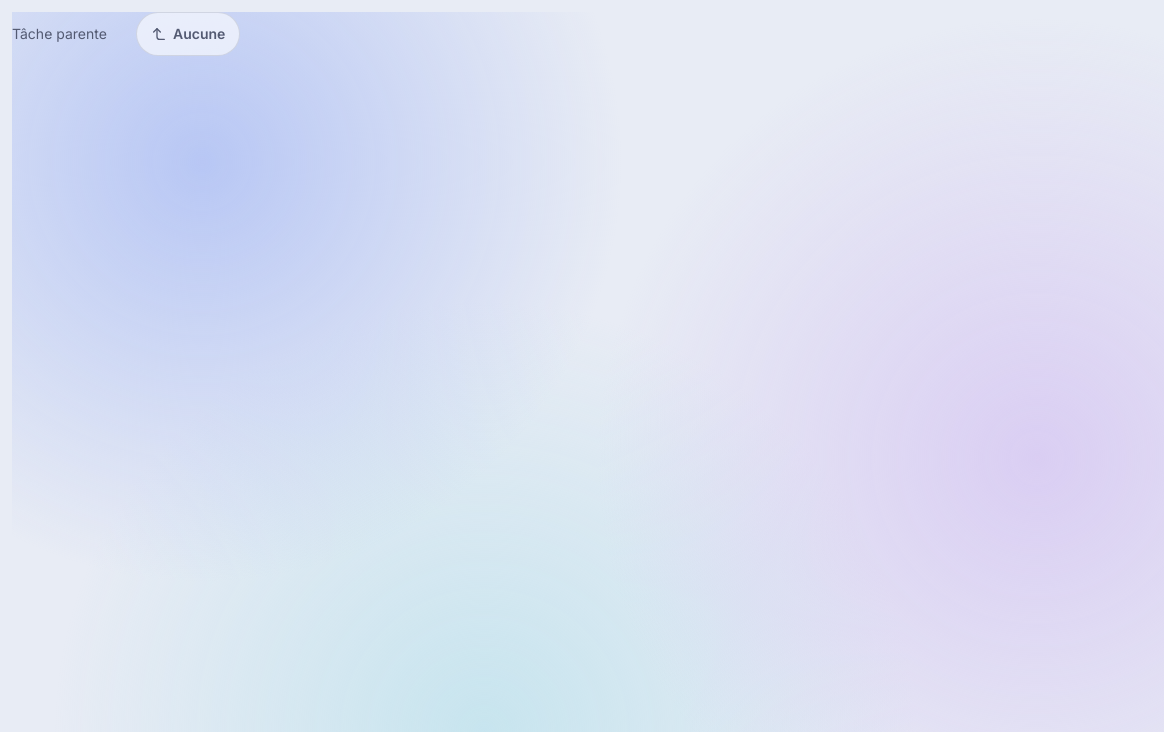
it: propriété « Tâche parente » › refus has_subtasks traduit sous le champ
Click the button with aria-label "Tâche parente : Aucune": click(188, 34) [136,12,240,56]
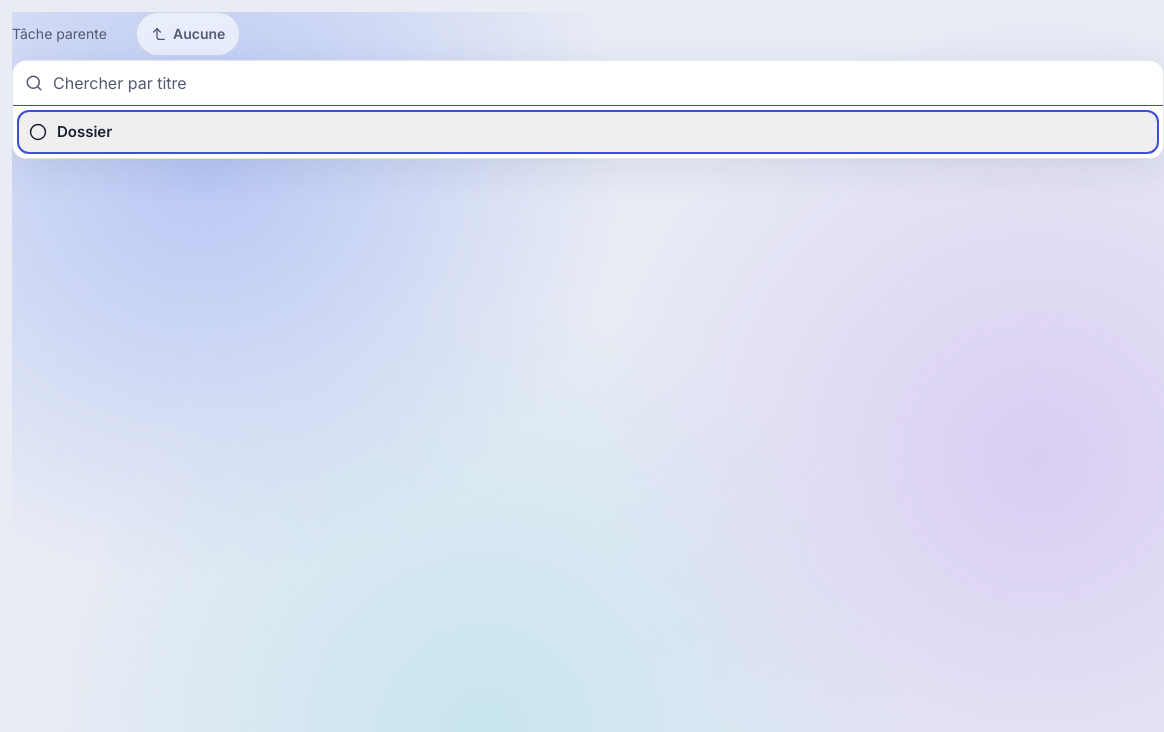
Click the option "Dossier": click(85, 131) [17,110,1159,154]
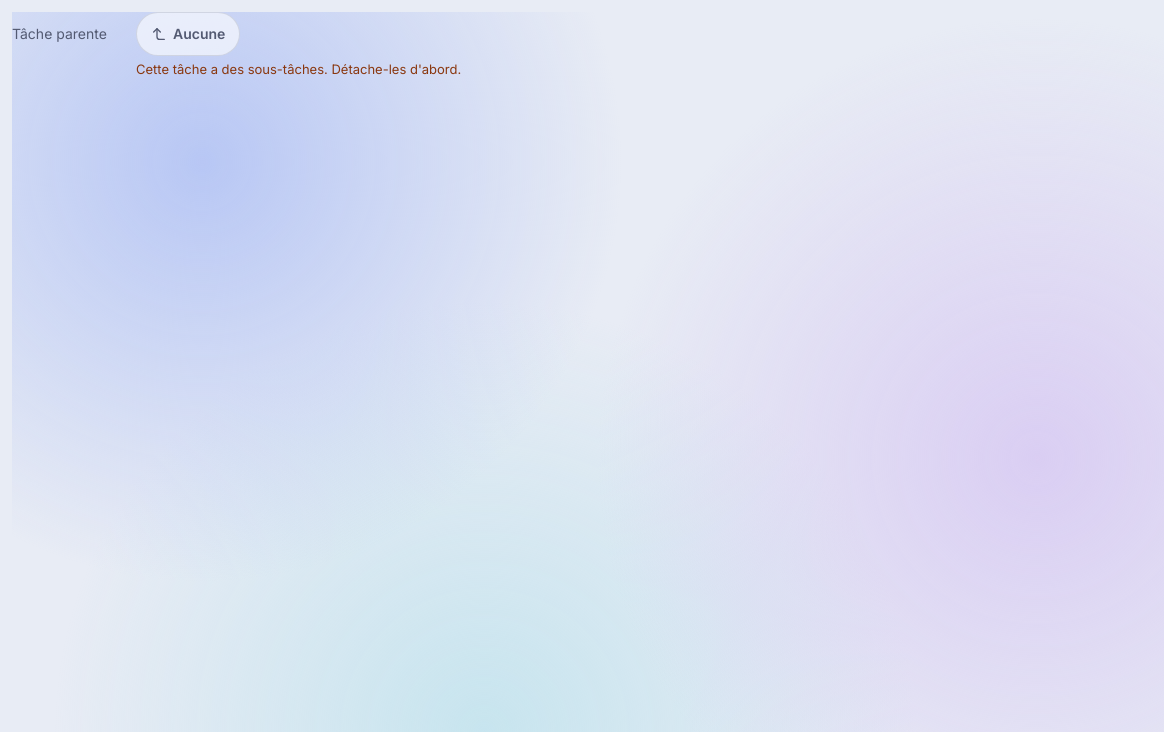
Now the message reads "Cette tâche a des sous-tâches. Détache-les d'abord.", box [136,61,461,77]
